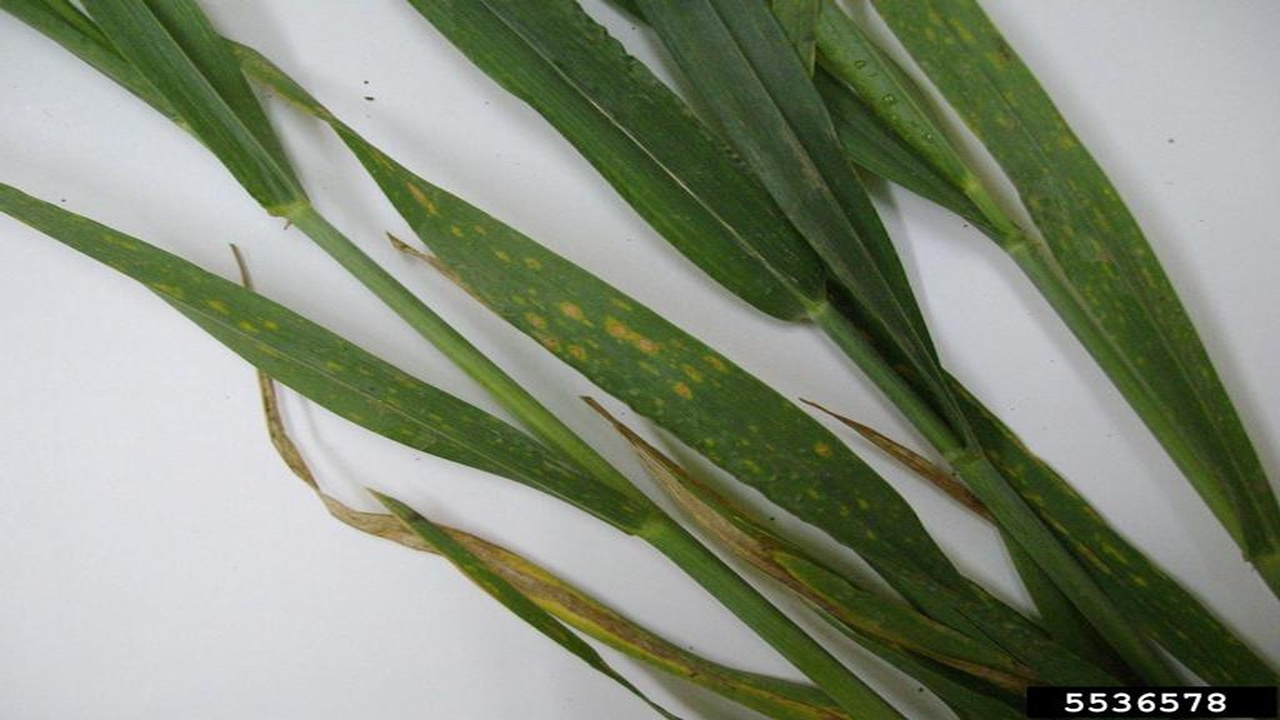tan_spot: (254, 58, 945, 579), (1, 184, 641, 535), (876, 2, 1265, 529)
